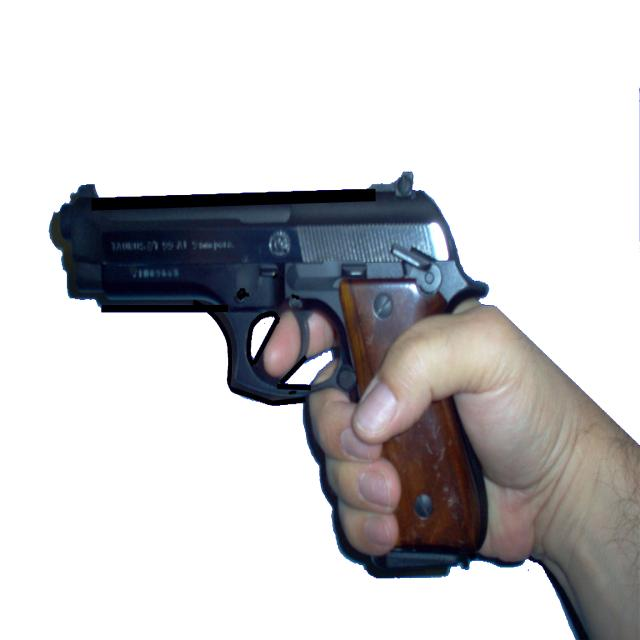HandGun: (48, 174, 491, 408)
